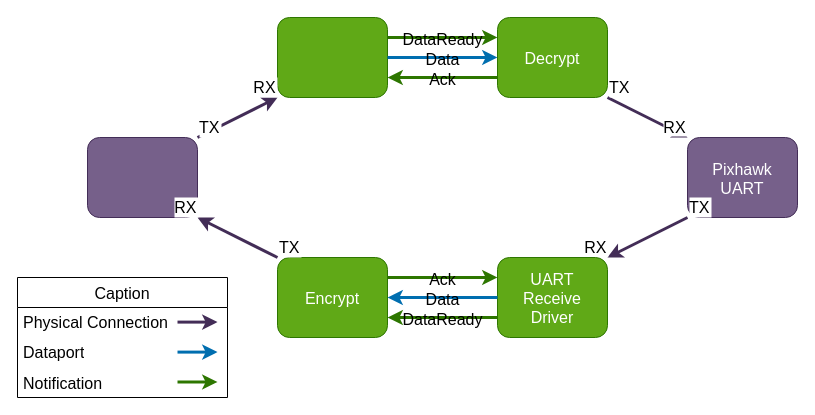
The diagram is 815 pixels wide and 415 high, and some of its shapes have lost their labels. Here are the shapes that lost their labels. From the top down, the centre of each, then its label:
At (x=332, y=57): "Telemetry Receive Driver".
At (x=142, y=177): "3DR Telemetry".
